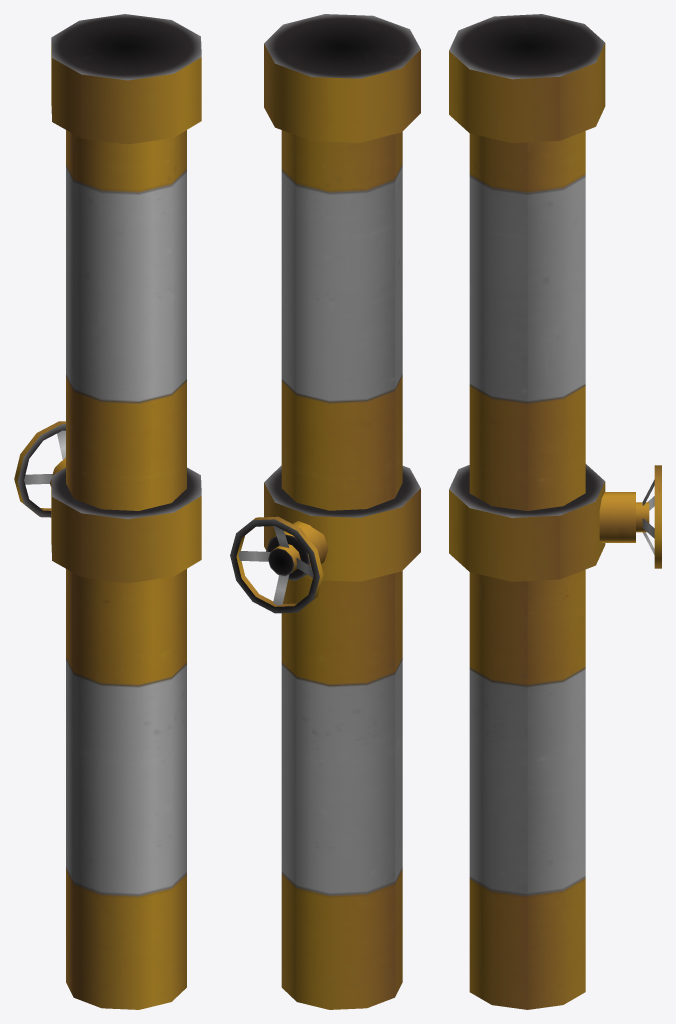
Rendered from Pipe_Vert_01.FBX.
The picture shows the model from 3 angles, left to right: view 1: azimuth 30°, elevation 25°; view 2: azimuth 150°, elevation 25°; view 3: azimuth 270°, elevation 25°; orthographic projection.
Parts seen in each view (by area): view 1: Pipe_Vert_01; view 2: Pipe_Vert_01; view 3: Pipe_Vert_01.
Boxes of the visible parts, x1,y1,x2,y2 form: Pipe_Vert_01: [14, 14, 201, 1009]; Pipe_Vert_01: [230, 14, 420, 1009]; Pipe_Vert_01: [449, 14, 661, 1009].
Size of the model in its own units: 20.98 by 141 by 28.92.
